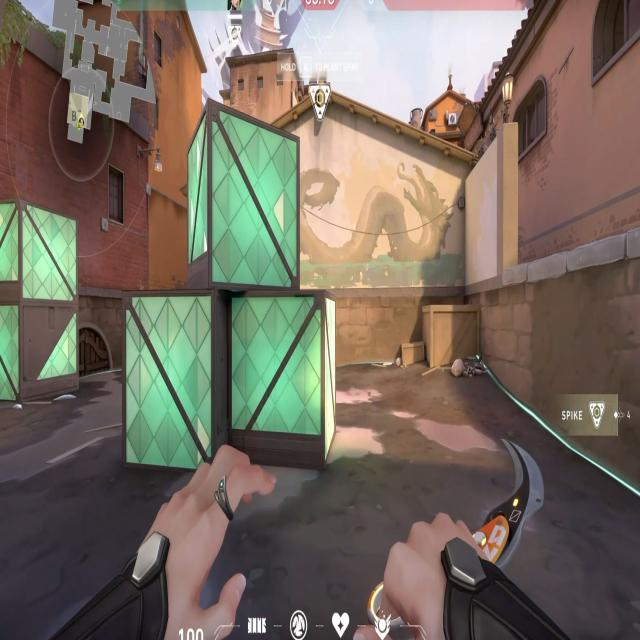B_Site_Box: (117, 96, 343, 477)
Throwables: (585, 0, 640, 95), (511, 68, 548, 168)
